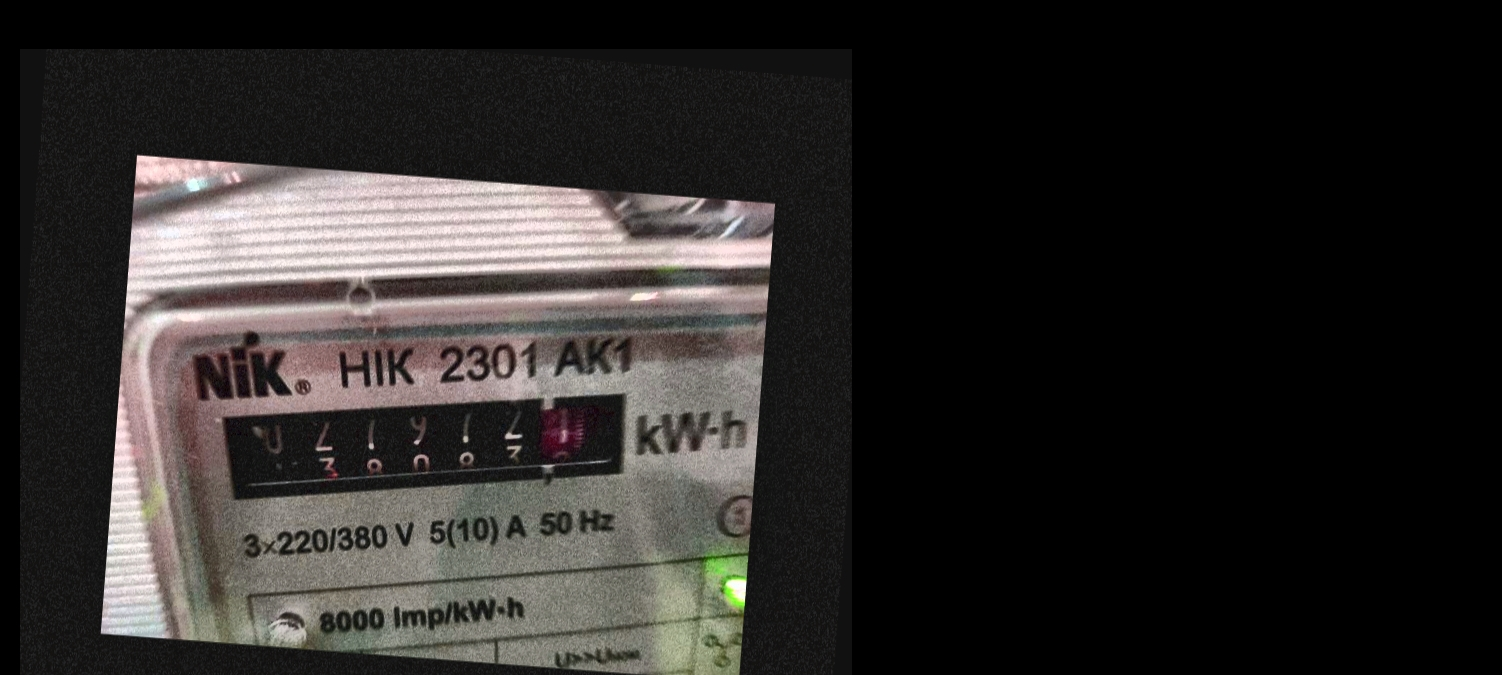0: (255, 417, 286, 455)
1: (550, 402, 575, 447)
2: (305, 412, 337, 453), (496, 402, 527, 441)
7: (449, 403, 478, 446), (355, 412, 381, 451)
9: (402, 409, 431, 446)
screen: (197, 352, 660, 540)
